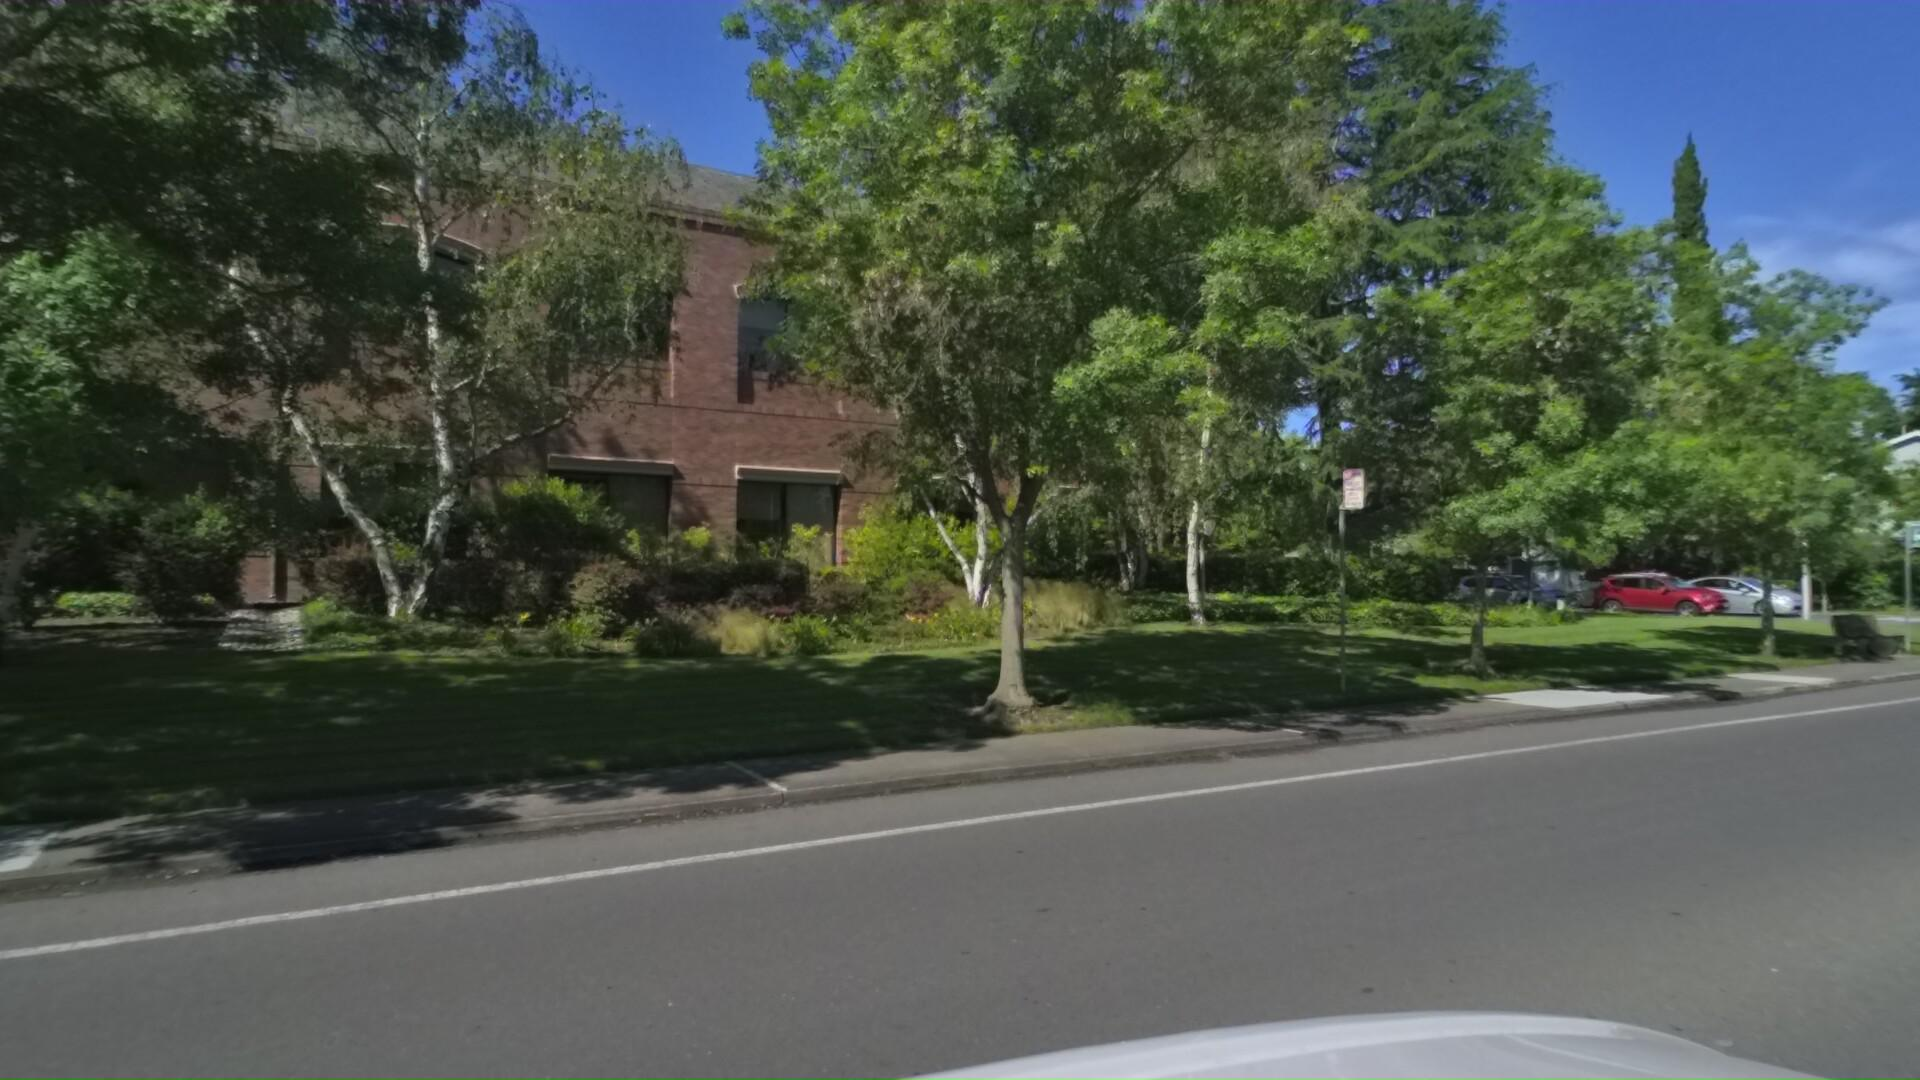car: (1580, 568, 1741, 617), (1672, 570, 1832, 615), (1443, 570, 1575, 611), (1514, 578, 1630, 612), (1902, 578, 1920, 626)
